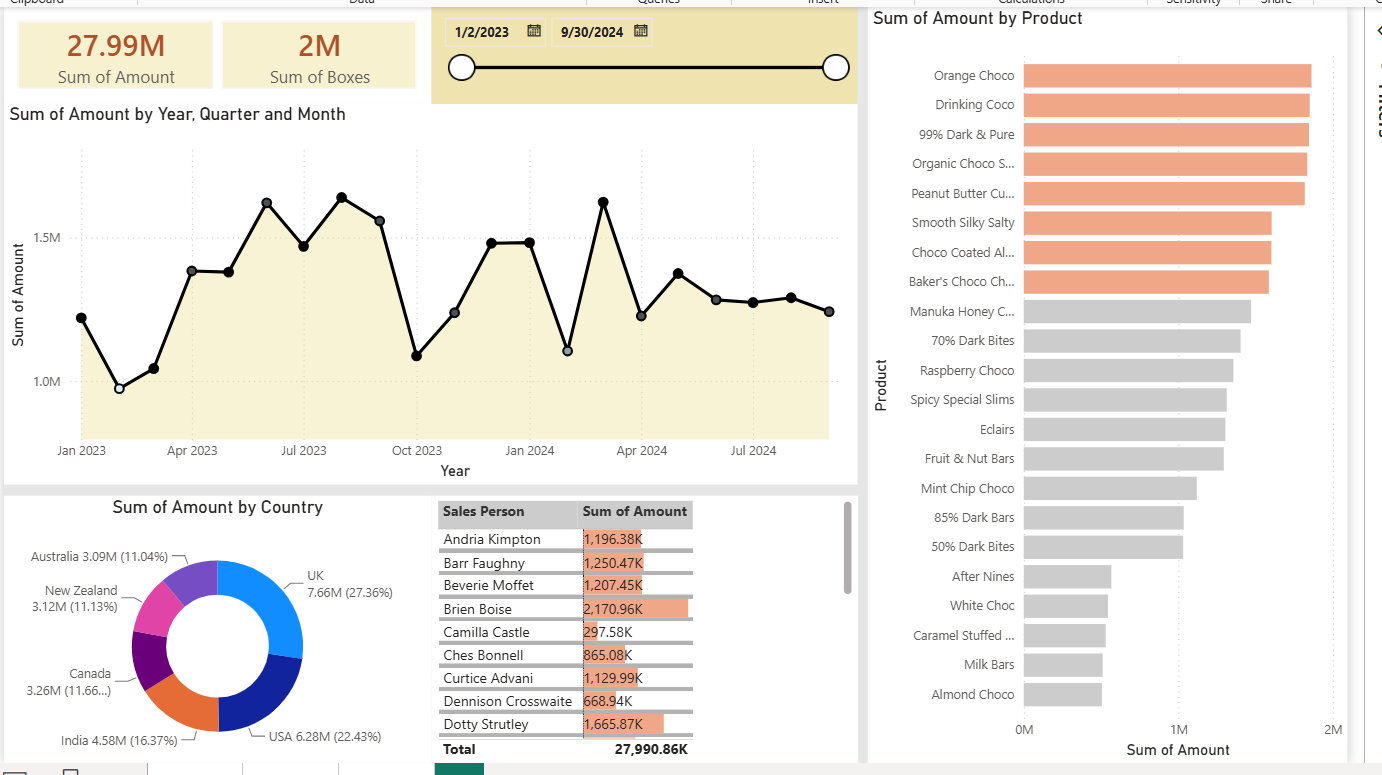

What the dashboard file says about the page in this screenshot:
{"tool":"powerbi","page":{"name":"Page 3","canvas":[1280,720],"ordinal":2},"visuals":[{"type":"lineChart","fields":{"Category":["data (2).Date.Variation.Date Hierarchy.Year","data (2).Date.Variation.Date Hierarchy.Quarter","data (2).Date.Variation.Date Hierarchy.Month","data (2).Date.Variation.Date Hierarchy.Day"],"Y":["Sum(data (2).Amount)"]},"box":[0,91.7,813.1,363.1],"z":0},{"type":"donutChart","fields":{"Category":["data (2).Country"],"Y":["Sum(data (2).Amount)"]},"box":[0,465.5,407.1,254.8],"z":1000},{"type":"tableEx","fields":{"Values":["data (2).Sales Person","Sum(data (2).Amount)"]},"box":[407,465,406,255],"z":2000},{"type":"cardVisual","fields":{"Data":["Sum(data (2).Amount)","Sum(data (2).Boxes)"]},"box":[0,0,407.1,91.7],"z":3000},{"type":"slicer","fields":{"Values":["data (2).Date"]},"box":[407.1,0,406,91.7],"z":4000},{"type":"clusteredBarChart","fields":{"Category":["data (2).Product"],"Y":["Sum(data (2).Amount)"]},"box":[822.6,0,457.1,720.2],"z":4001}]}

Visuals, with their boxes on the page's 1280x720 design canvas (x1, y1, x2, y2). These are canvas units, not pixel positions in the 1382x775 screenshot, which may show the page scaled, cropped or inside an application window:
lineChart - data (2).Date.Variation.Date Hierarchy.Year x data (2).Date.Variation.Date Hierarchy.Quarter: region(0, 92, 813, 455)
donutChart - data (2).Country x Sum(data (2).Amount): region(0, 466, 407, 720)
tableEx - data (2).Sales Person x Sum(data (2).Amount): region(407, 465, 813, 720)
cardVisual - Sum(data (2).Amount) x Sum(data (2).Boxes): region(0, 0, 407, 92)
slicer - data (2).Date: region(407, 0, 813, 92)
clusteredBarChart - data (2).Product x Sum(data (2).Amount): region(823, 0, 1280, 720)
